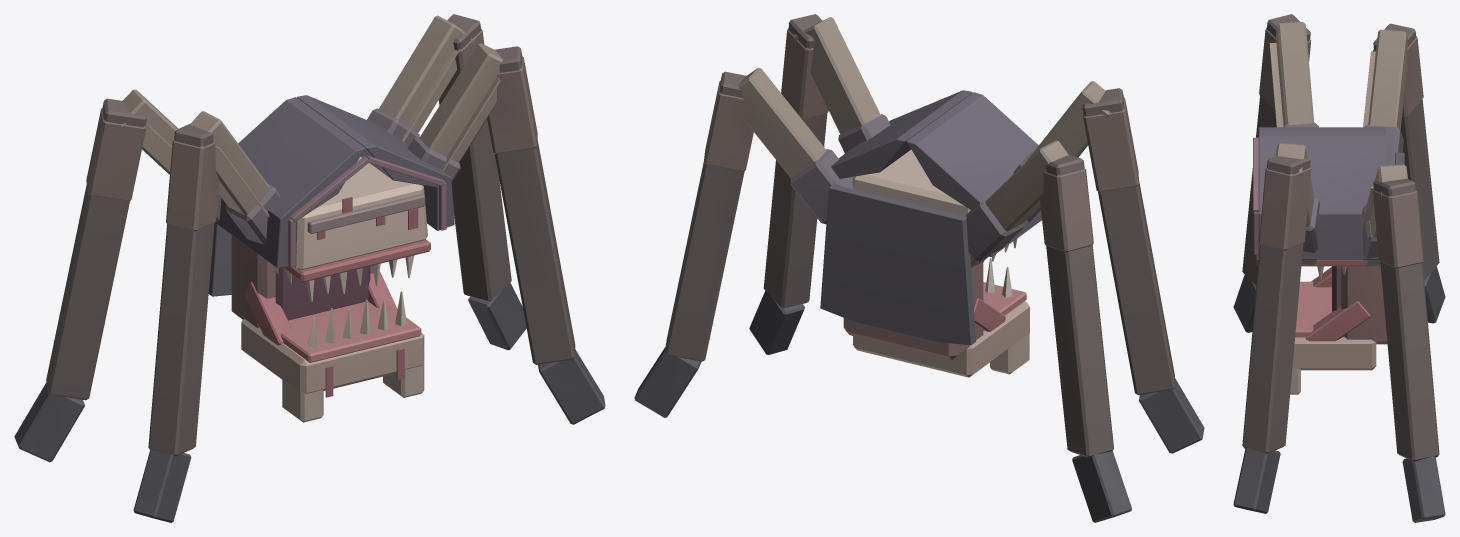
Rendered from PrimitiveSummonerAssassin.glb.
3 views of the same model, side by side, from view 1: azimuth 30°, elevation 25°; view 2: azimuth 150°, elevation 25°; view 3: azimuth 270°, elevation 25° (orthographic). The views are drawn at different scales.
Parts seen in each view (by area): view 1: Body, ArmR, ArmL, LegR, LegL, Head; view 2: Body, LegR, LegL, ArmR, ArmL, Head; view 3: ArmL, LegL, Body, LegR, ArmR, Head.
Boxes of the visible parts, left/top/right/bottom form: Body: left=208, top=95, right=454, bottom=327; ArmR: left=133, top=111, right=279, bottom=522; ArmL: left=407, top=43, right=605, bottom=424; LegR: left=14, top=89, right=221, bottom=462; LegL: left=367, top=14, right=526, bottom=349; Head: left=241, top=271, right=424, bottom=422; Body: left=820, top=90, right=1041, bottom=359; LegR: left=965, top=140, right=1131, bottom=522; LegL: left=634, top=68, right=853, bottom=417; ArmR: left=1013, top=81, right=1204, bottom=453; ArmL: left=749, top=14, right=890, bottom=354; Head: left=853, top=258, right=1029, bottom=377; ArmL: left=1233, top=143, right=1319, bottom=513; LegL: left=1360, top=164, right=1445, bottom=522; Body: left=1253, top=127, right=1404, bottom=344; LegR: left=1363, top=23, right=1445, bottom=323; ArmR: left=1233, top=14, right=1318, bottom=332; Head: left=1290, top=267, right=1376, bottom=394.
Size of the model in its own units: 10.01 by 6.99 by 3.98.
